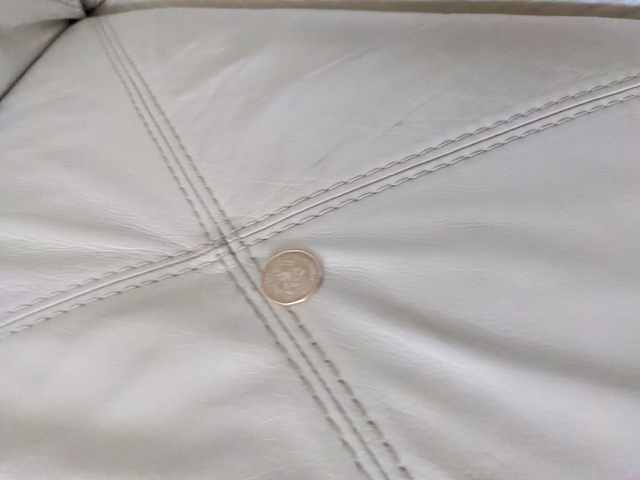loonie: (258, 241, 328, 309)
